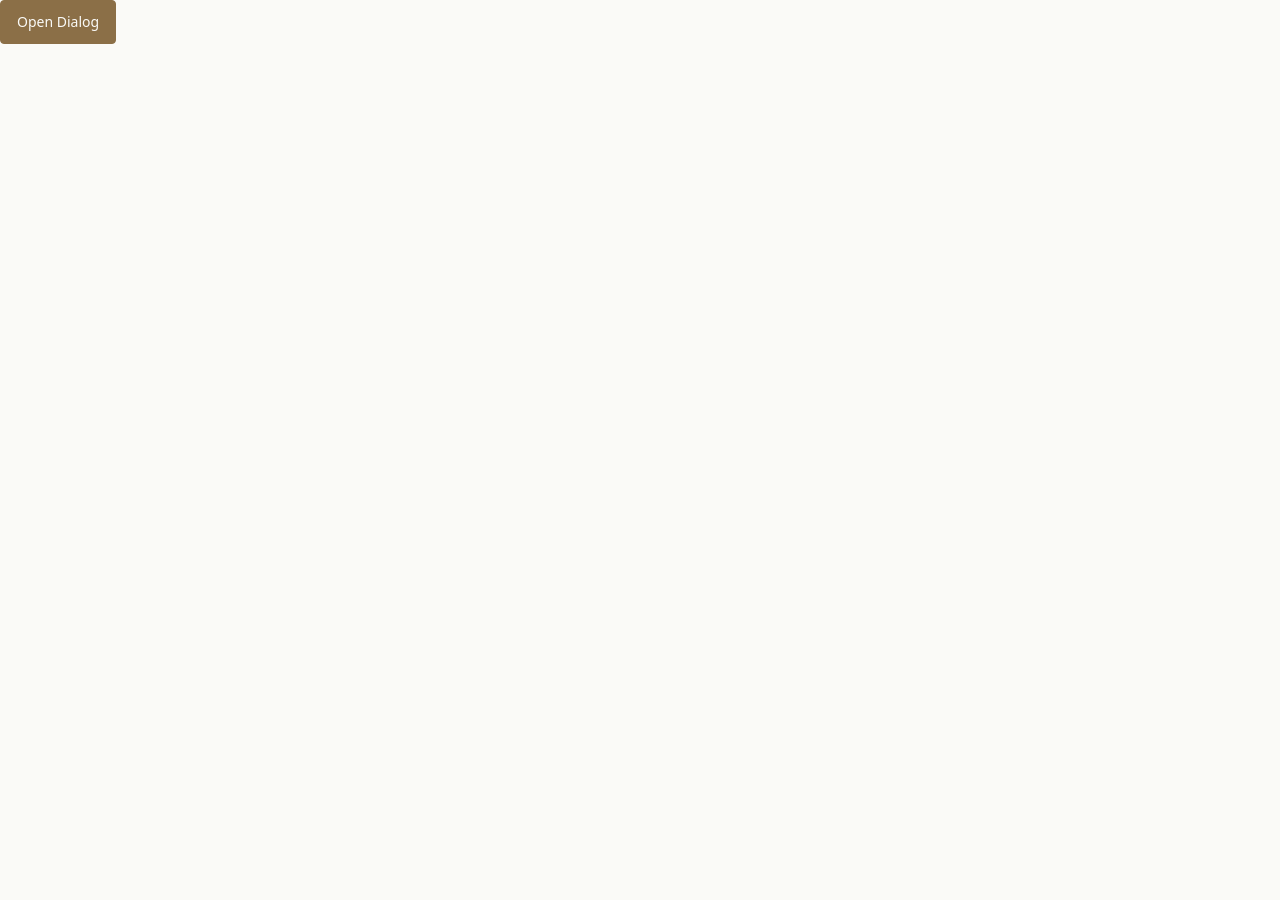
Test: UI Primitives › traps focus in Dialog, closes on Escape, and restores focus
Click the button "Open Dialog": (58, 22) [0,0,116,44]
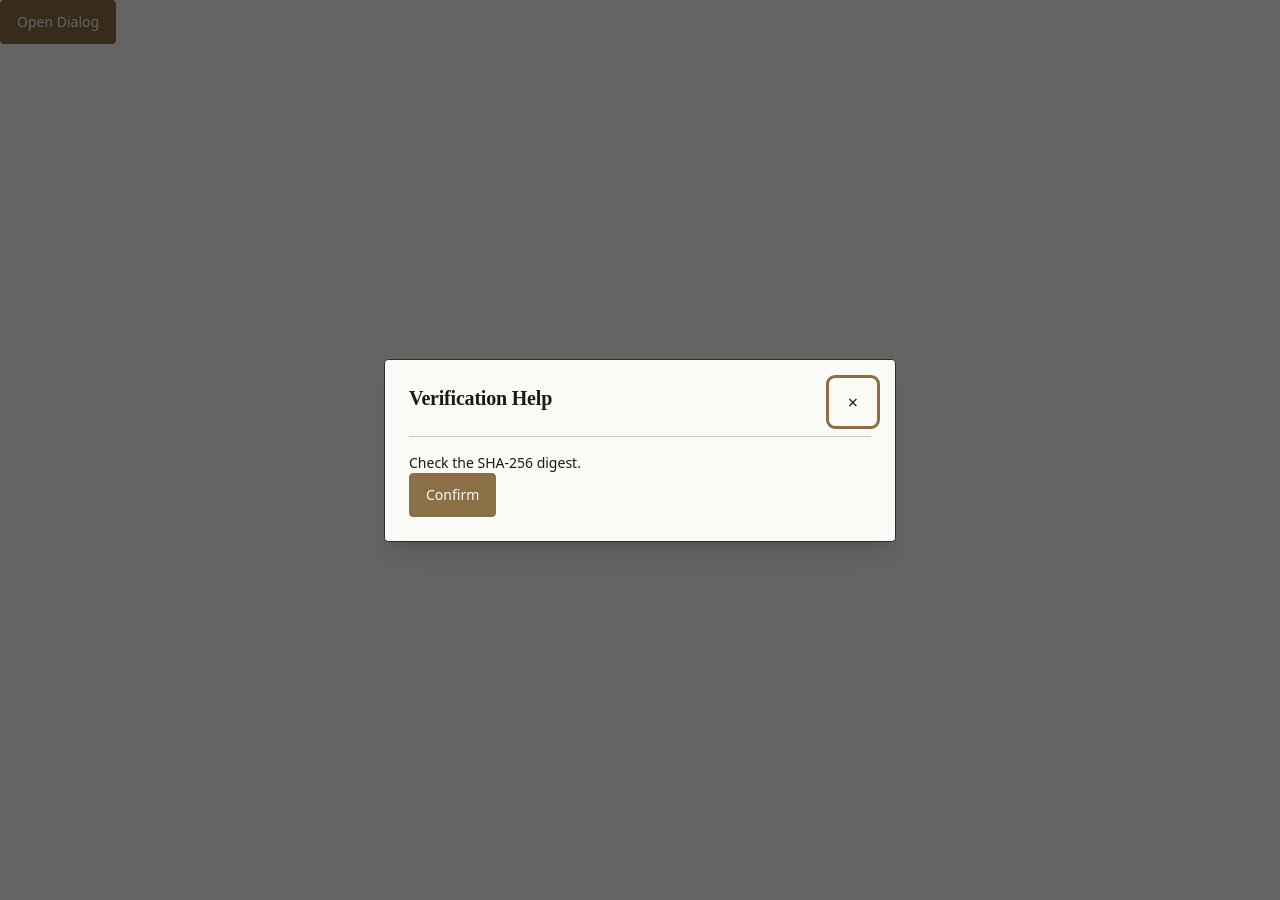
Now the dialog "Verification Help" is shown, box [384,358,896,542]
Note: Tab moves to Confirm, Tab again wraps back to Close dialog (focus trap)
Press Tab
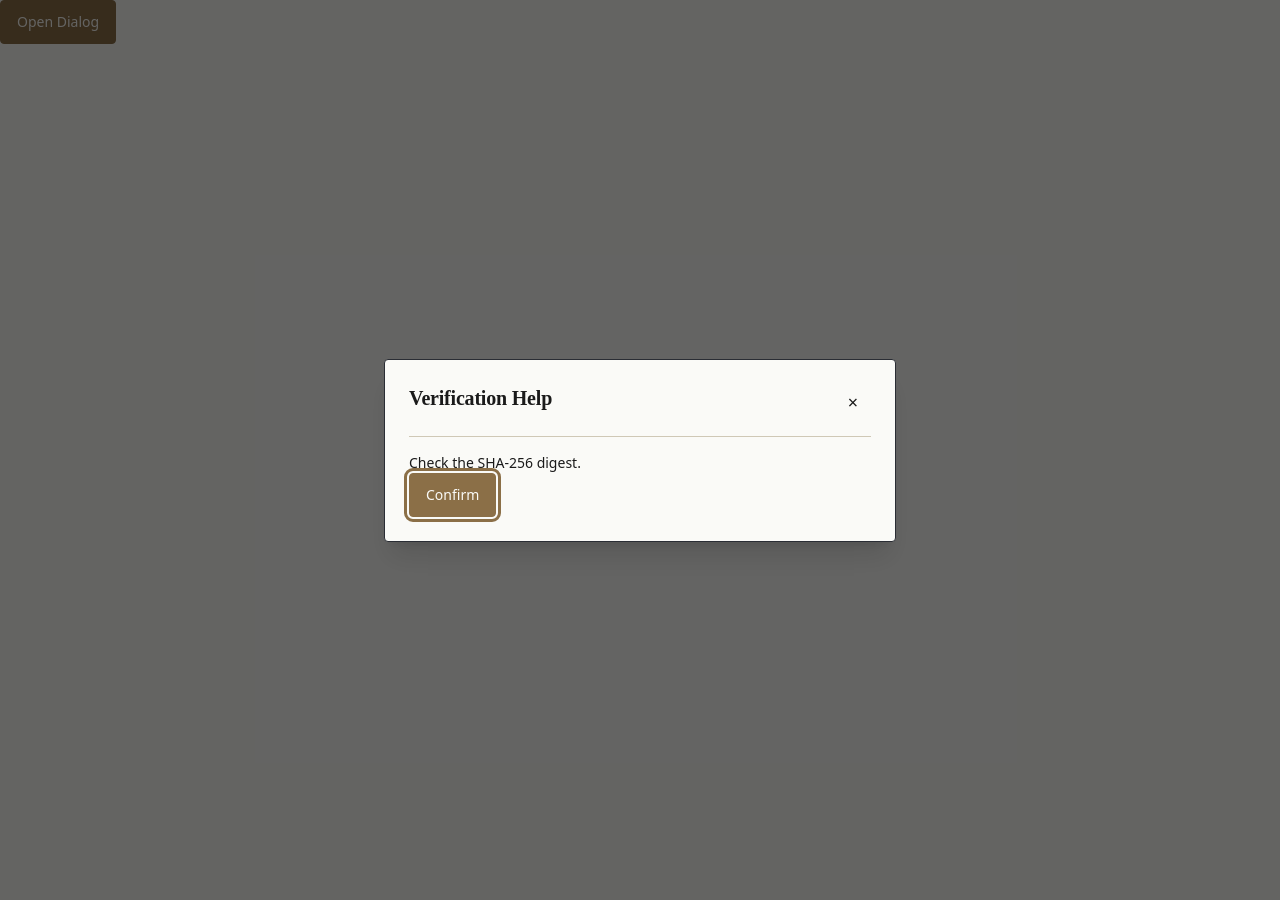
Press Tab
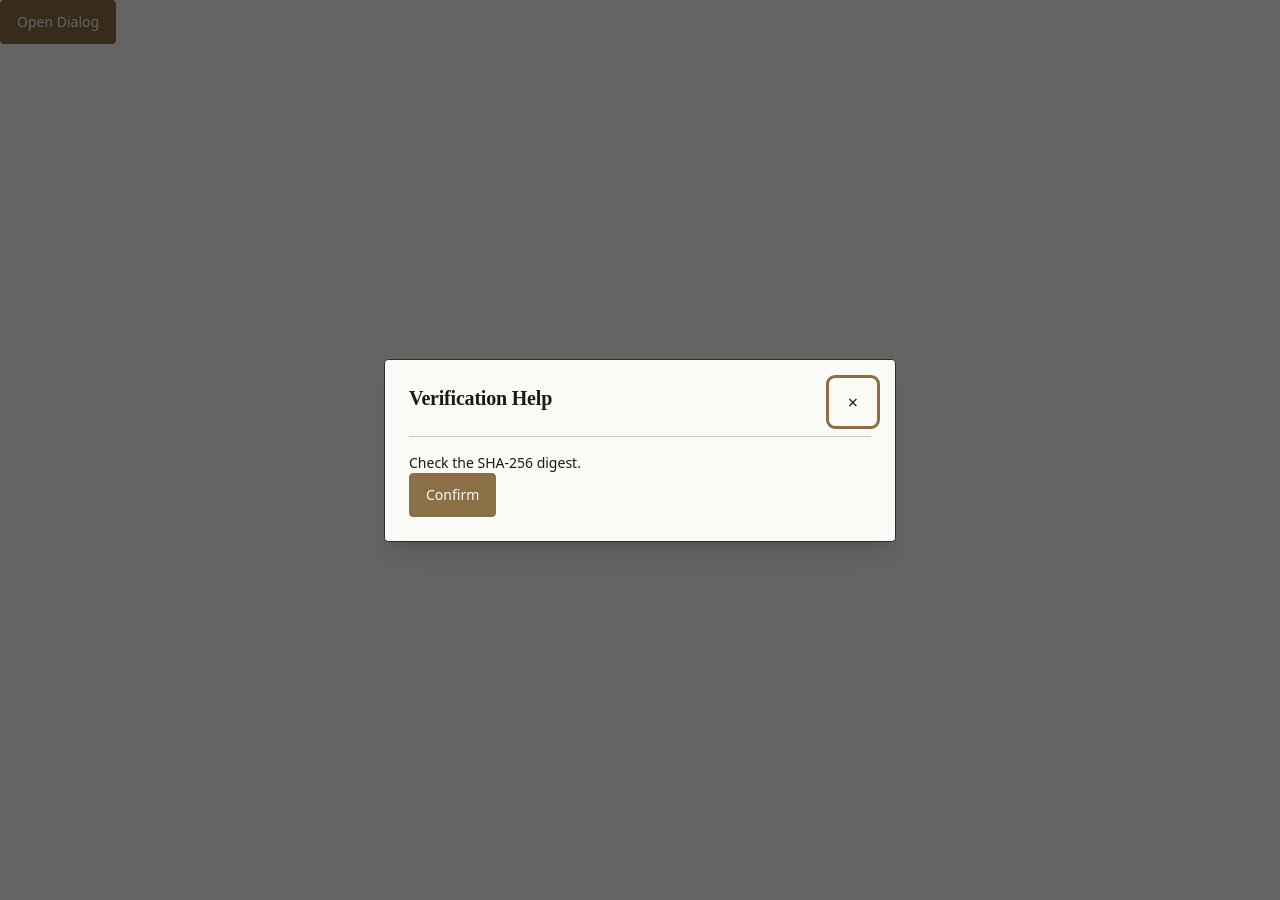
Note: Shift+Tab wraps backwards to Confirm
Press Shift+Tab
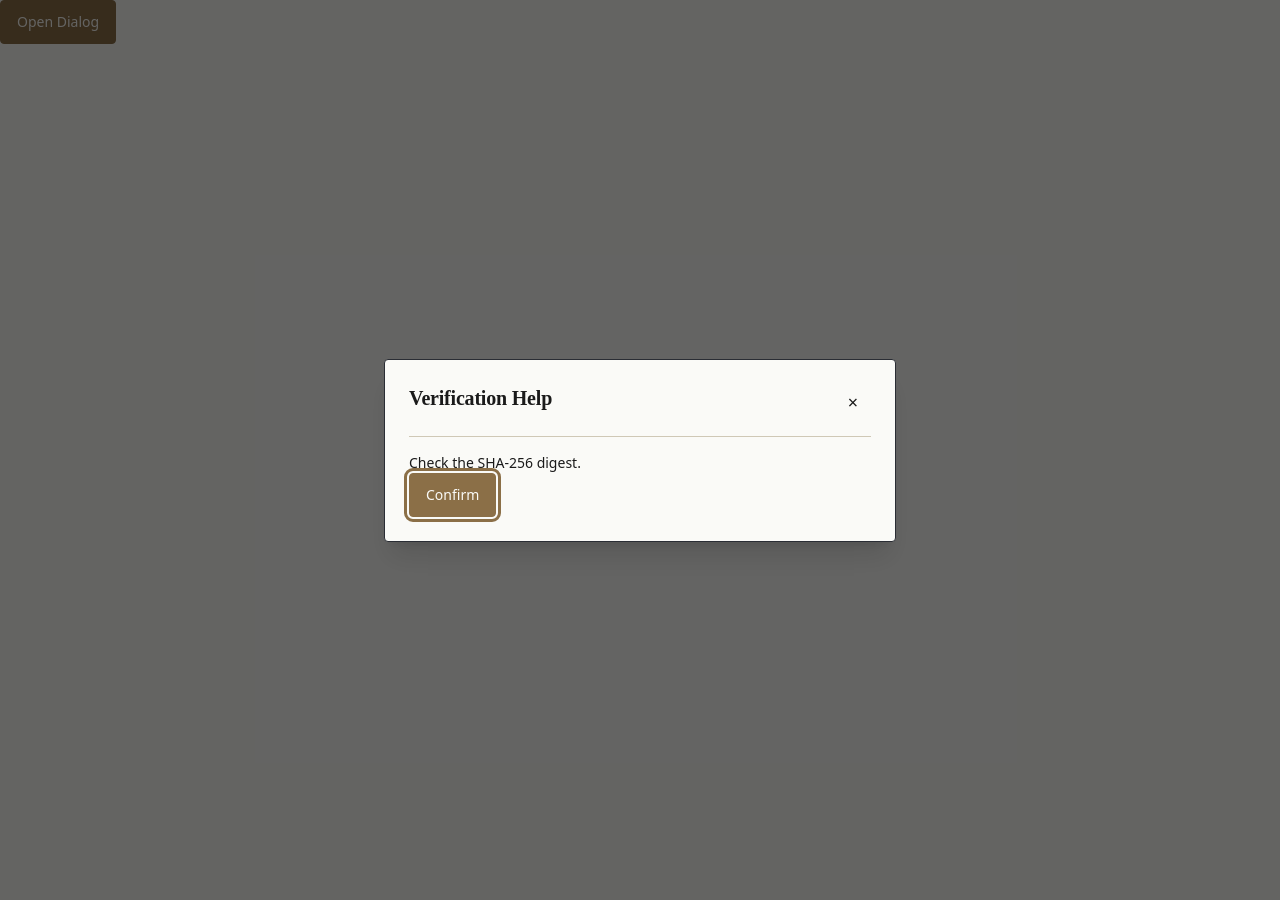
Note: Escape closes dialog and restores focus to trigger
Press Escape
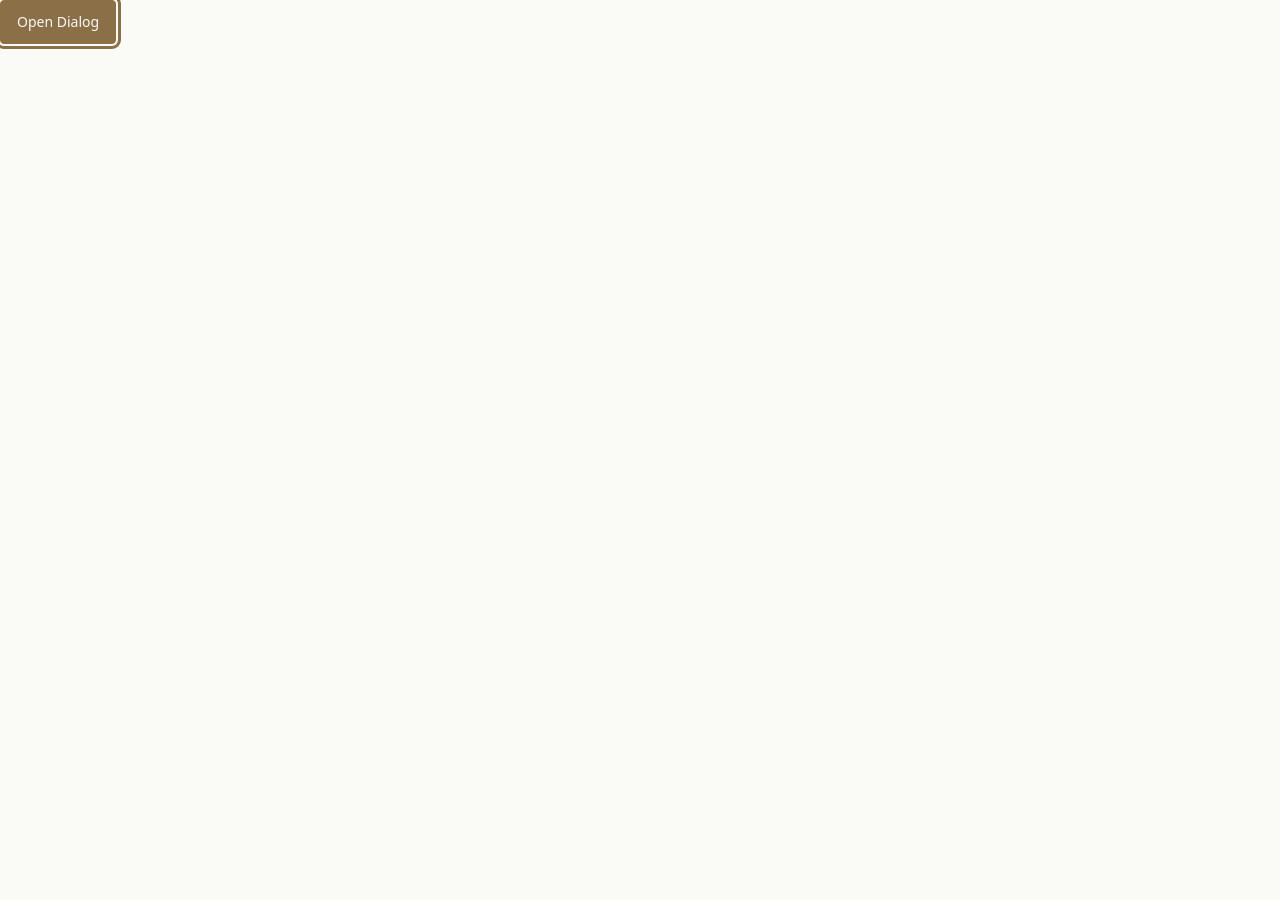
Now the dialog is gone
